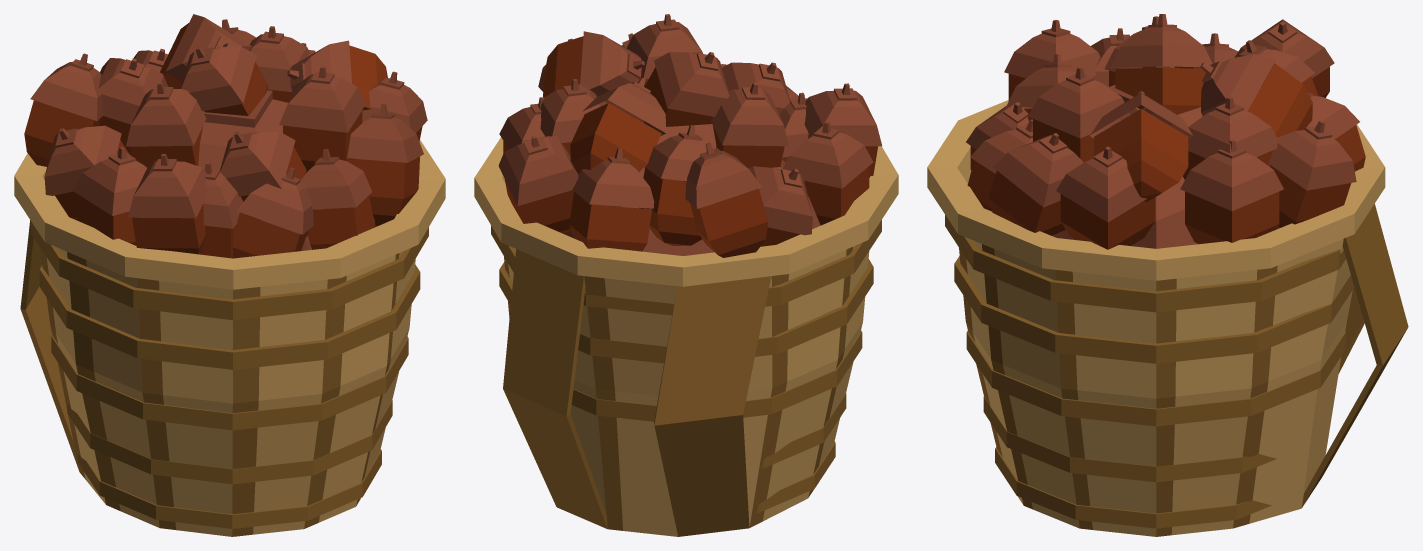
The model's file is Dotolibasket.fbx.
3 views of the same model, side by side, from view 1: azimuth 30°, elevation 25°; view 2: azimuth 150°, elevation 25°; view 3: azimuth 270°, elevation 25° (orthographic). The views are drawn at different scales.
Parts seen in each view (by area): view 1: basket, dotoli.001; view 2: basket, dotoli.001; view 3: basket, dotoli.001.
Boxes of the visible parts, <box> form: basket: <box>14,140,445,536</box>; dotoli.001: <box>24,14,427,258</box>; basket: <box>474,137,898,536</box>; dotoli.001: <box>498,14,882,257</box>; basket: <box>927,100,1408,536</box>; dotoli.001: <box>966,14,1365,249</box>.
Bounding box in the file's own units: 400 × 450 × 436.
